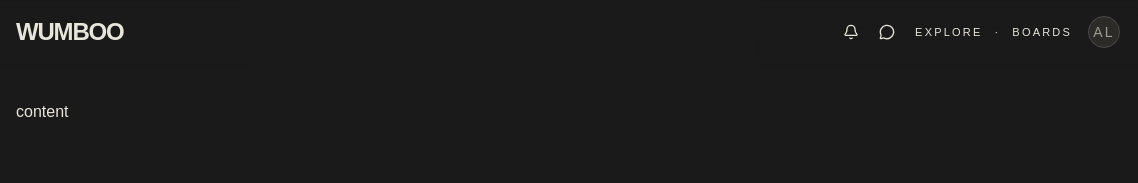
Test: AppShell › shows the account menu to signed-in users
Click the button with aria-label "Account menu" at (1104, 32), box [1088, 16, 1120, 48]
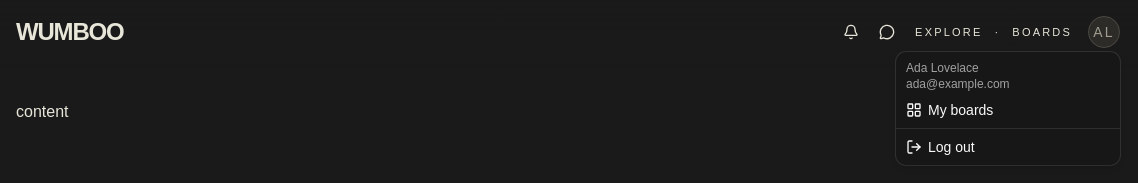
Expected: the menu item "Log out" is shown, [906, 139, 975, 155]
Expected: the text "ada@example.com" is shown, [906, 77, 1010, 91]
